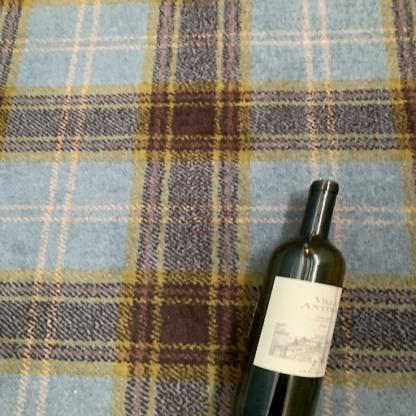trash: (226, 178, 348, 416)
